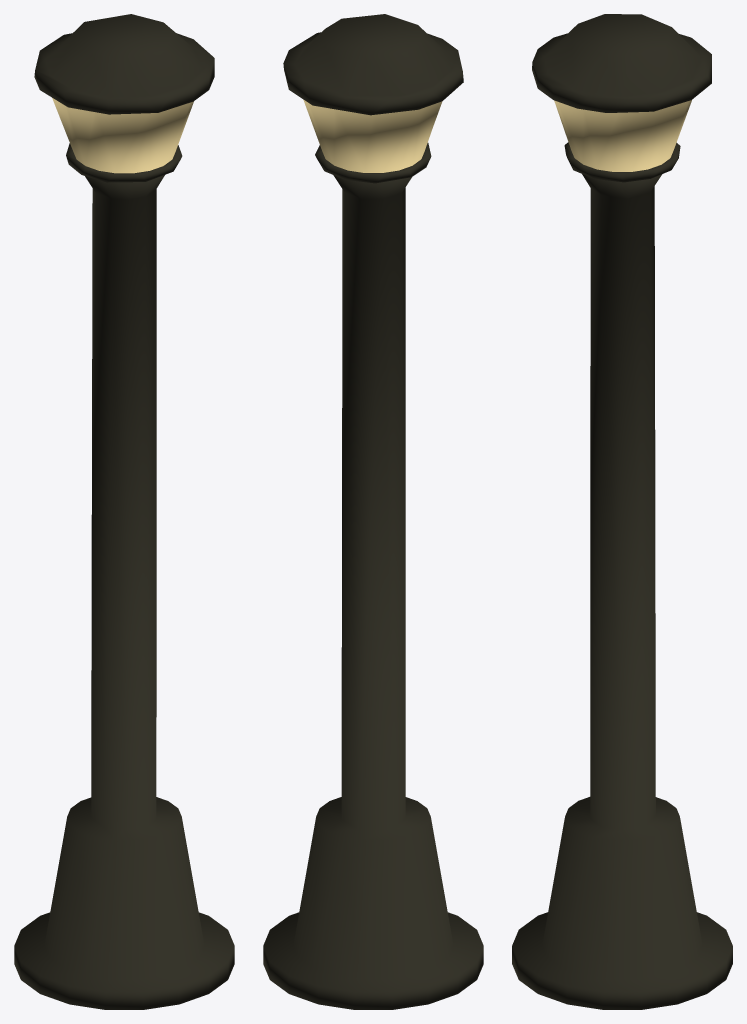
Rendered from Lamp.fbx.
3 renders of one model, left to right at view 1: azimuth 30°, elevation 25°; view 2: azimuth 150°, elevation 25°; view 3: azimuth 270°, elevation 25°, orthographic.
Parts seen in each view (by area): view 1: LampPost; view 2: LampPost; view 3: LampPost.
Part boxes in pixels (box(x1,y1,x2,y2)): LampPost: box(14, 14, 234, 1009); LampPost: box(263, 14, 483, 1009); LampPost: box(512, 14, 732, 1009).
Size of the model in its own units: 40.65 by 192 by 41.28.
